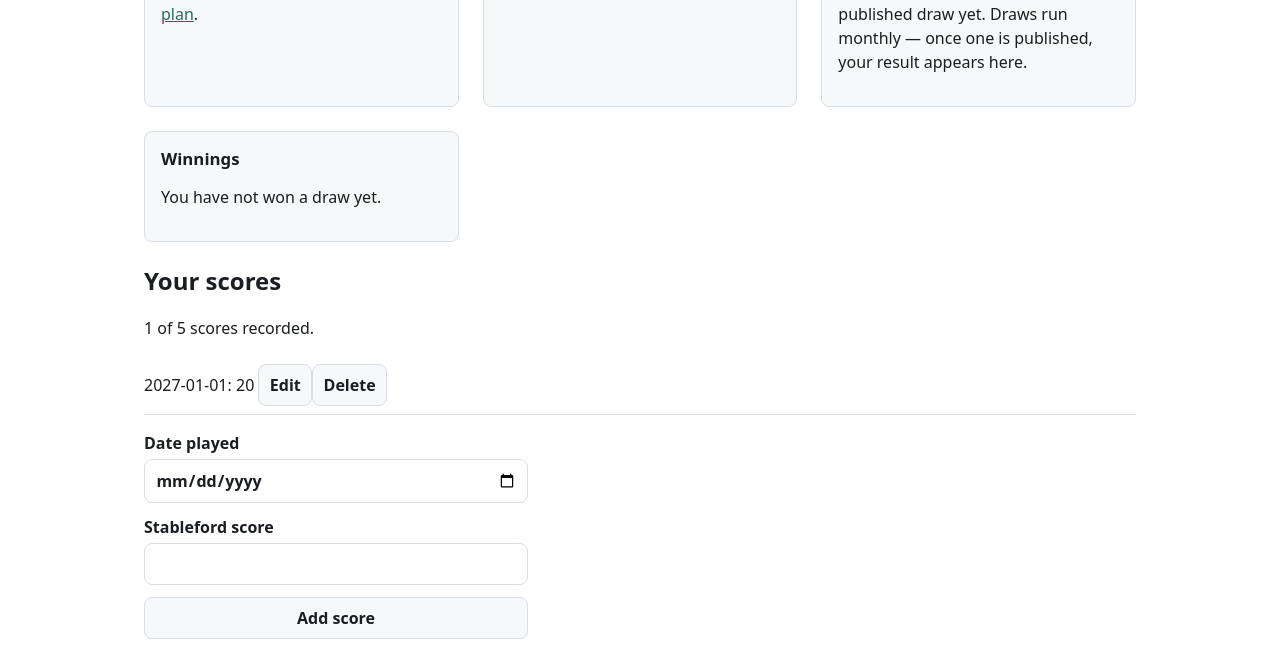
Dashboard — score entry, edit and delete (PRD §05 DSH-02) › edits an existing score in place
(page scrolled)
Expected: the list item "2027-01-01: 20" is shown, [144,356,1136,415]
Click the button "Edit": (285, 385) [258,364,312,406]
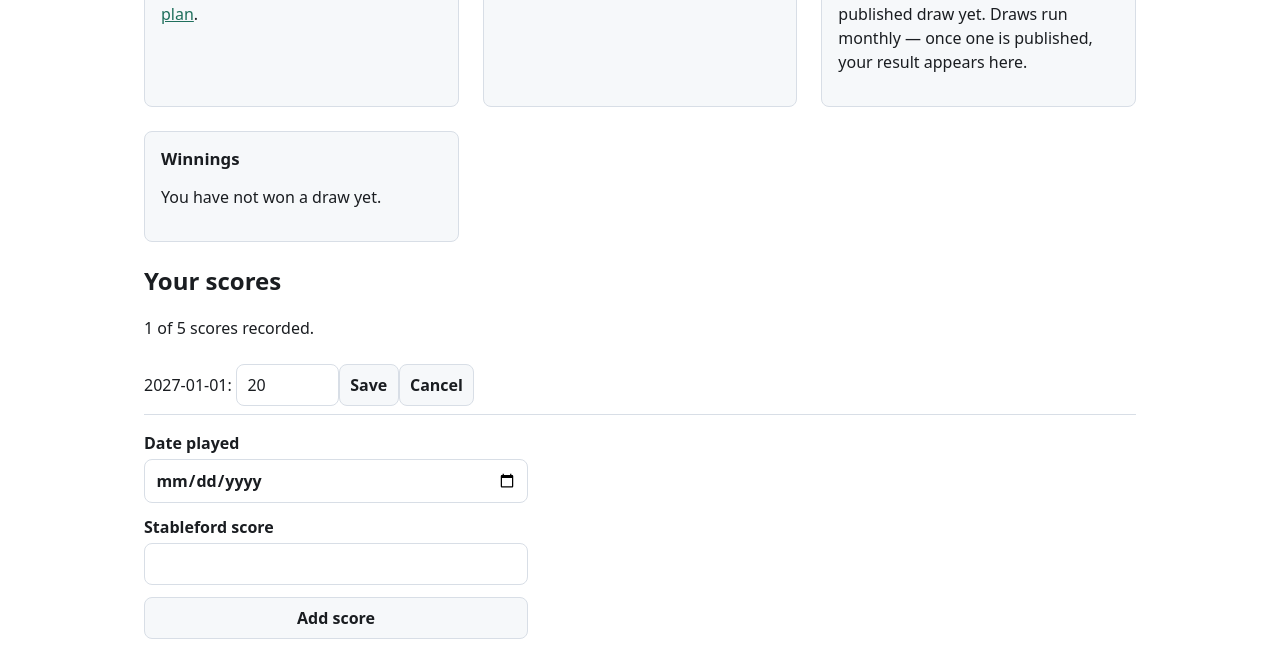
Replace the text in the number field named "Score for 2027-01-01" with "33": (287, 385) [236,364,339,406]
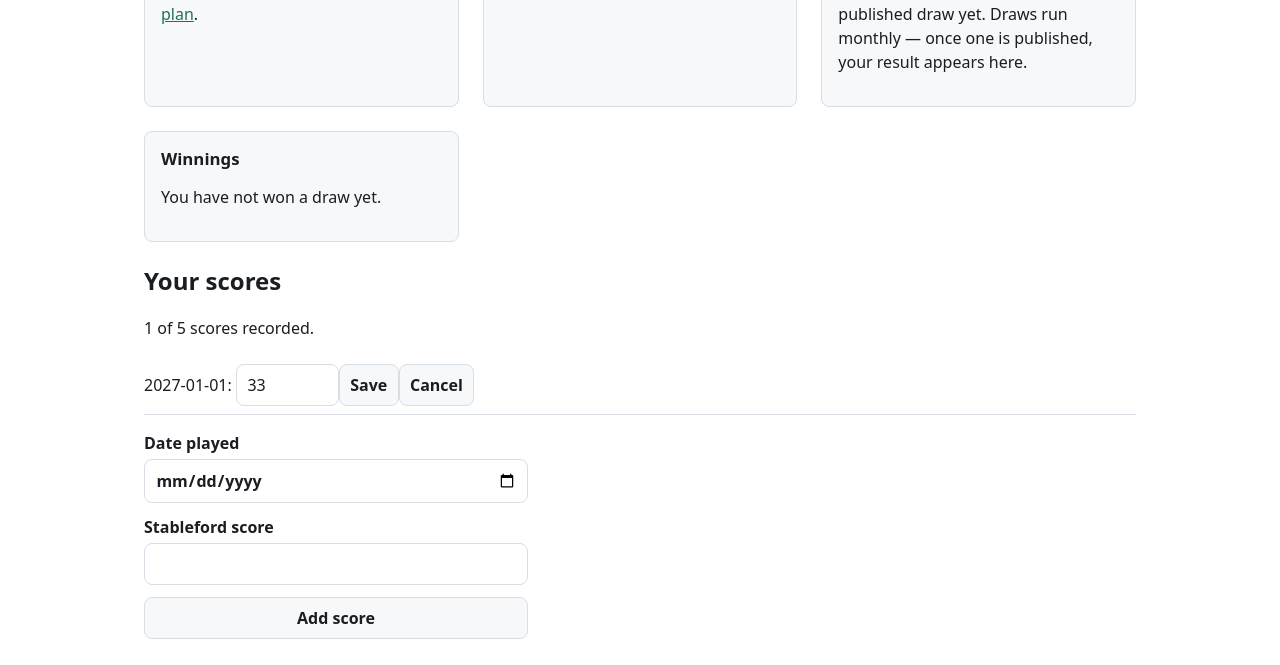
Click the button "Save": (369, 385) [339,364,399,406]
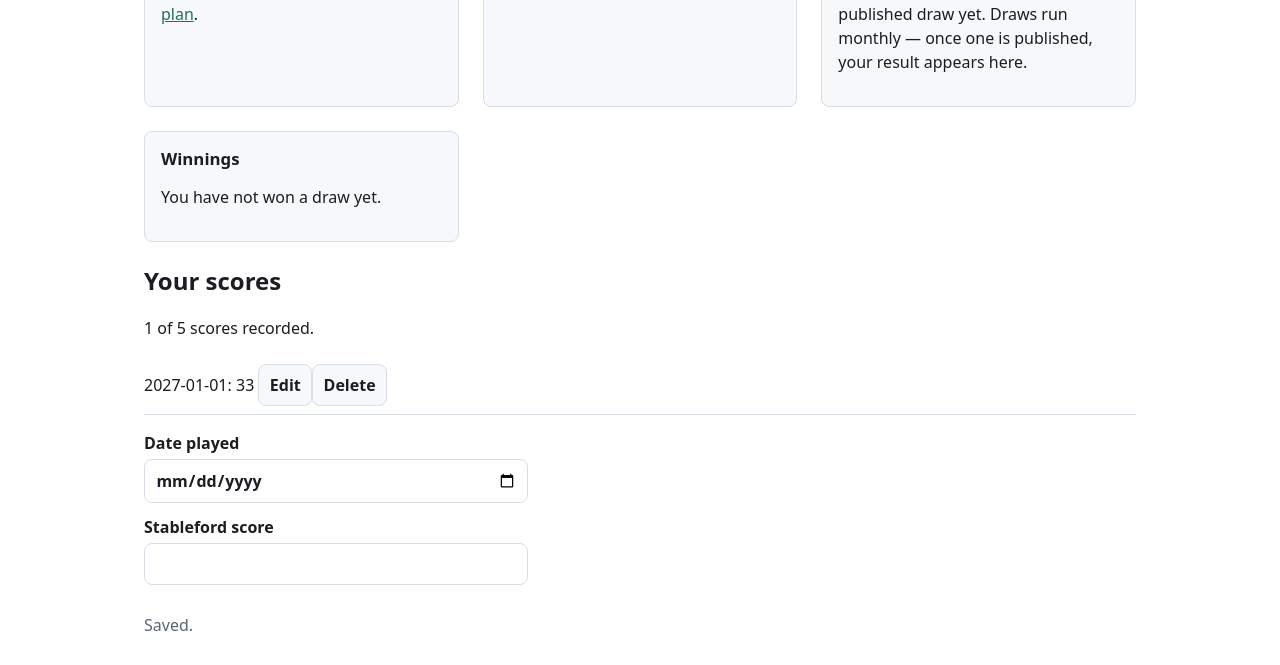
Expected: the list item "2027-01-01: 33" is shown, [144,356,1136,415]
